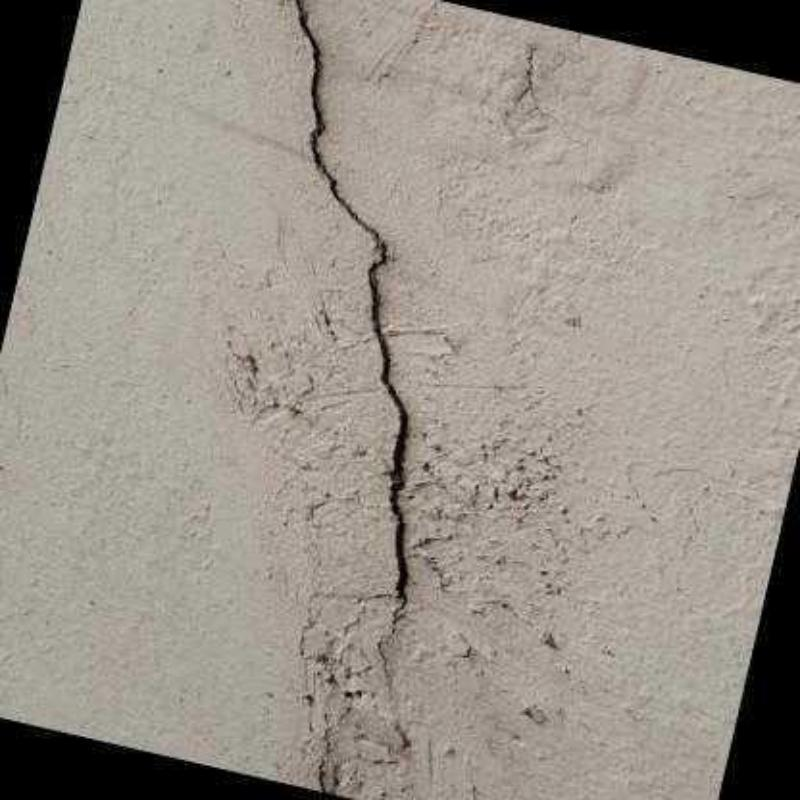crack: (294, 0, 410, 612)
